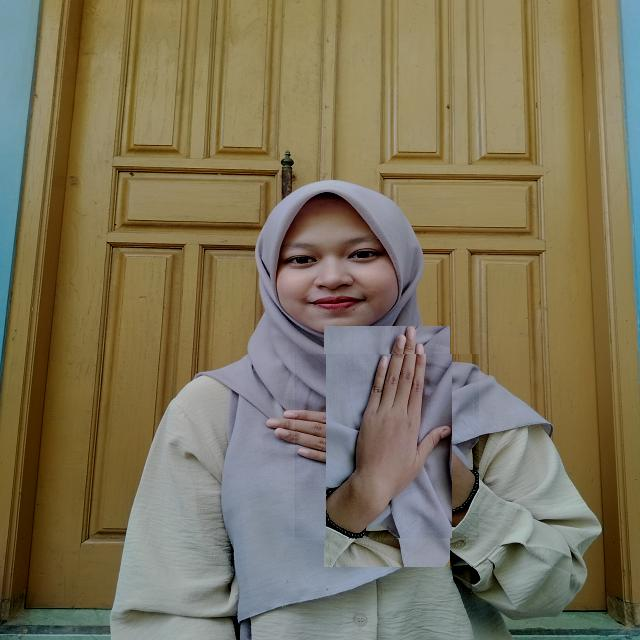tolong: (294, 354, 478, 538)
